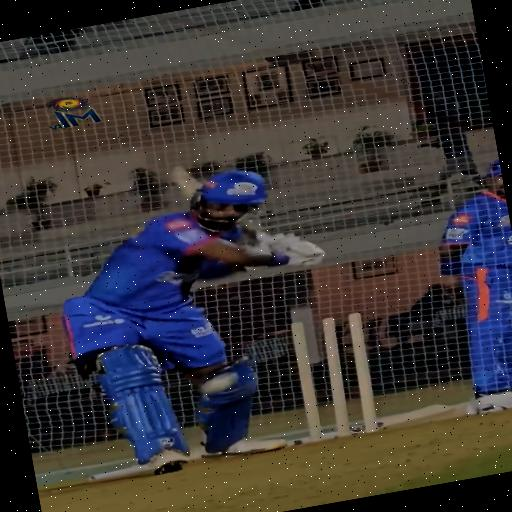Cricket bat: (171, 166, 202, 199), (243, 221, 262, 236)
